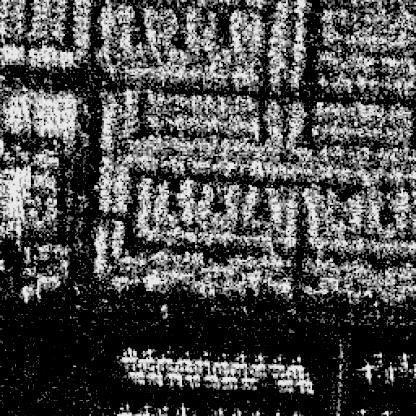airplane: (138, 346, 156, 371), (286, 356, 307, 377), (274, 375, 296, 395), (154, 351, 174, 371), (210, 354, 230, 374), (125, 366, 146, 385), (174, 354, 193, 374), (250, 353, 270, 372), (120, 346, 138, 367), (194, 351, 210, 374), (231, 353, 250, 372), (240, 372, 260, 390), (164, 370, 184, 387), (146, 369, 164, 387), (298, 377, 316, 395), (271, 354, 286, 374), (372, 351, 387, 371), (221, 370, 237, 388), (359, 362, 375, 380), (186, 372, 202, 387), (384, 364, 396, 382), (398, 351, 410, 369), (203, 372, 219, 385)
